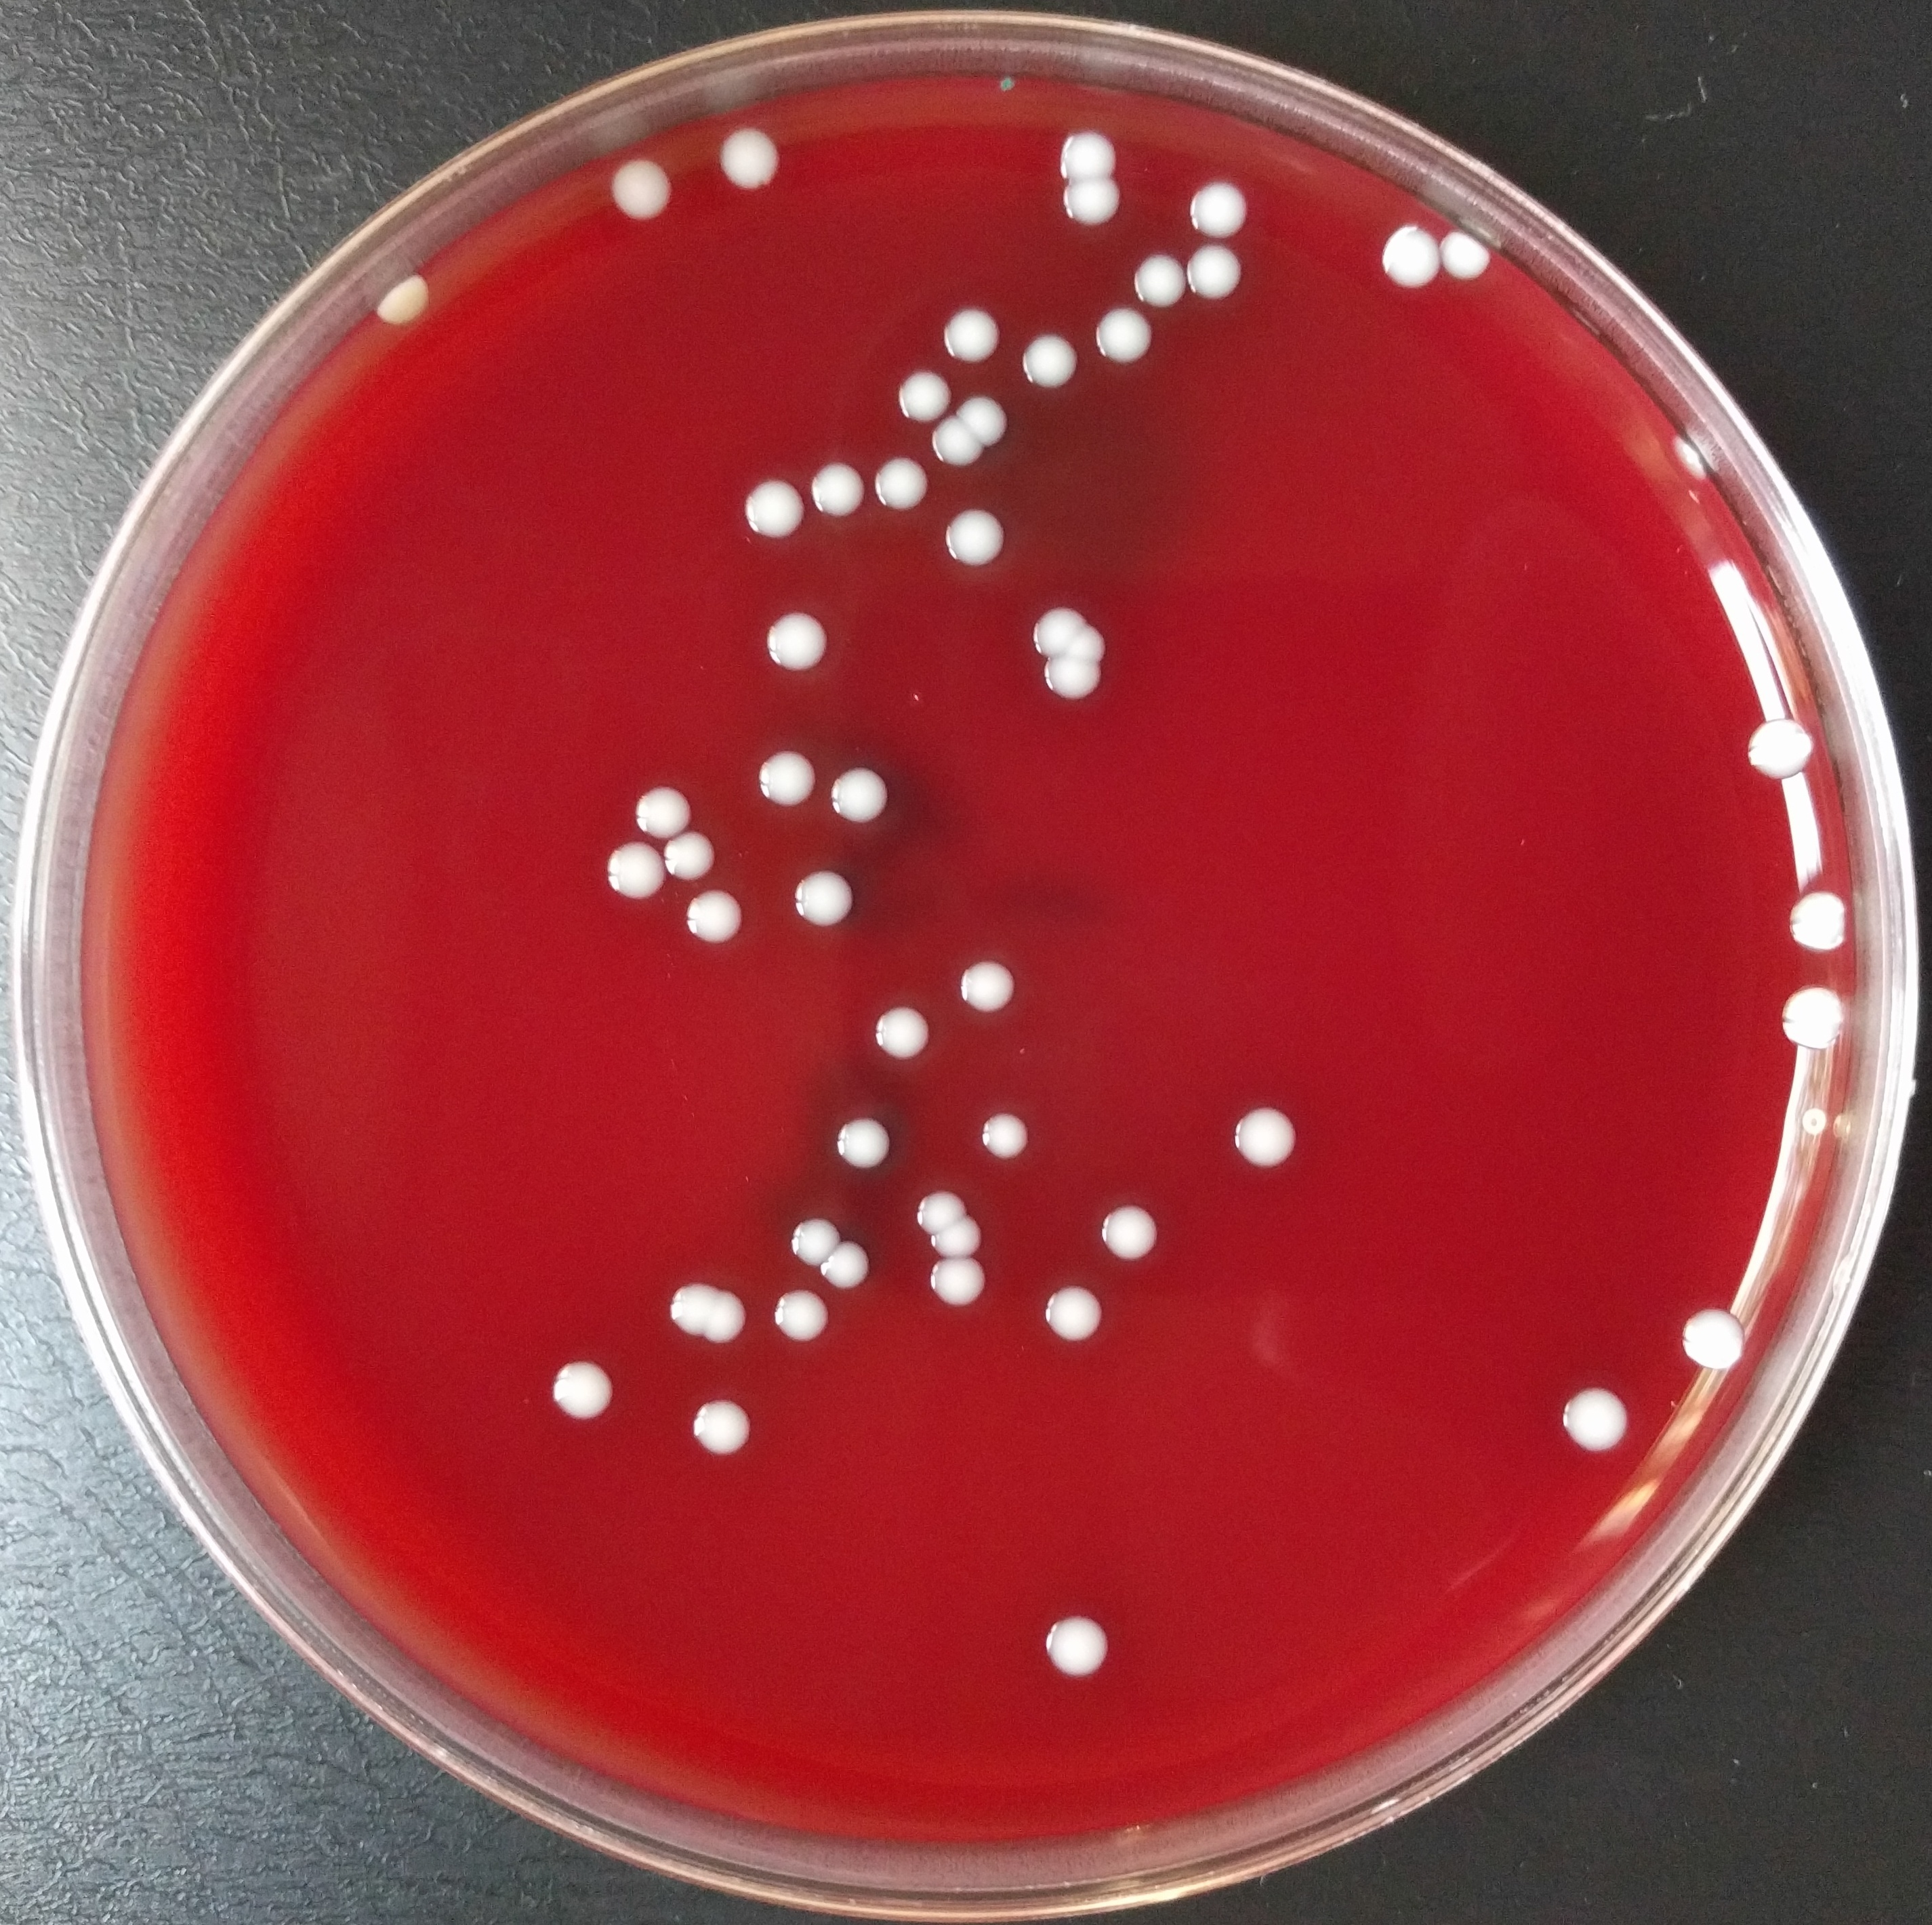sp01: (717, 462, 809, 559), (1729, 705, 1828, 792), (1357, 217, 1449, 308), (862, 987, 945, 1086), (1770, 970, 1858, 1058), (717, 106, 800, 197), (680, 1391, 770, 1470), (1227, 1088, 1301, 1183), (587, 823, 668, 908), (1026, 1282, 1114, 1359), (1049, 106, 1128, 190), (940, 492, 1017, 576), (818, 1100, 894, 1186), (545, 1352, 633, 1426), (742, 735, 820, 818), (1089, 291, 1158, 383), (747, 615, 839, 684), (1555, 1375, 1632, 1456), (851, 441, 934, 517), (1100, 1185, 1172, 1269), (1777, 887, 1861, 959), (802, 448, 871, 536), (1044, 1606, 1111, 1694), (821, 746, 897, 823), (1669, 1301, 1750, 1373), (675, 876, 760, 945), (601, 146, 672, 226), (955, 947, 1024, 1026), (374, 261, 444, 335), (1179, 176, 1255, 245), (628, 776, 696, 851), (1179, 234, 1252, 305), (973, 1095, 1044, 1165), (1431, 213, 1500, 286), (940, 294, 1007, 368), (880, 358, 954, 425), (1130, 238, 1185, 323), (925, 407, 984, 487), (781, 867, 857, 927), (1019, 324, 1084, 393), (1056, 173, 1128, 234), (962, 384, 1021, 457), (915, 1215, 1003, 1262), (915, 1259, 991, 1313), (665, 827, 730, 885), (906, 1178, 980, 1229), (772, 1289, 836, 1347), (1026, 601, 1084, 654), (1040, 656, 1102, 705), (827, 1237, 876, 1296), (666, 1276, 714, 1333), (790, 1215, 839, 1267), (705, 1290, 753, 1345), (1066, 619, 1112, 665)
